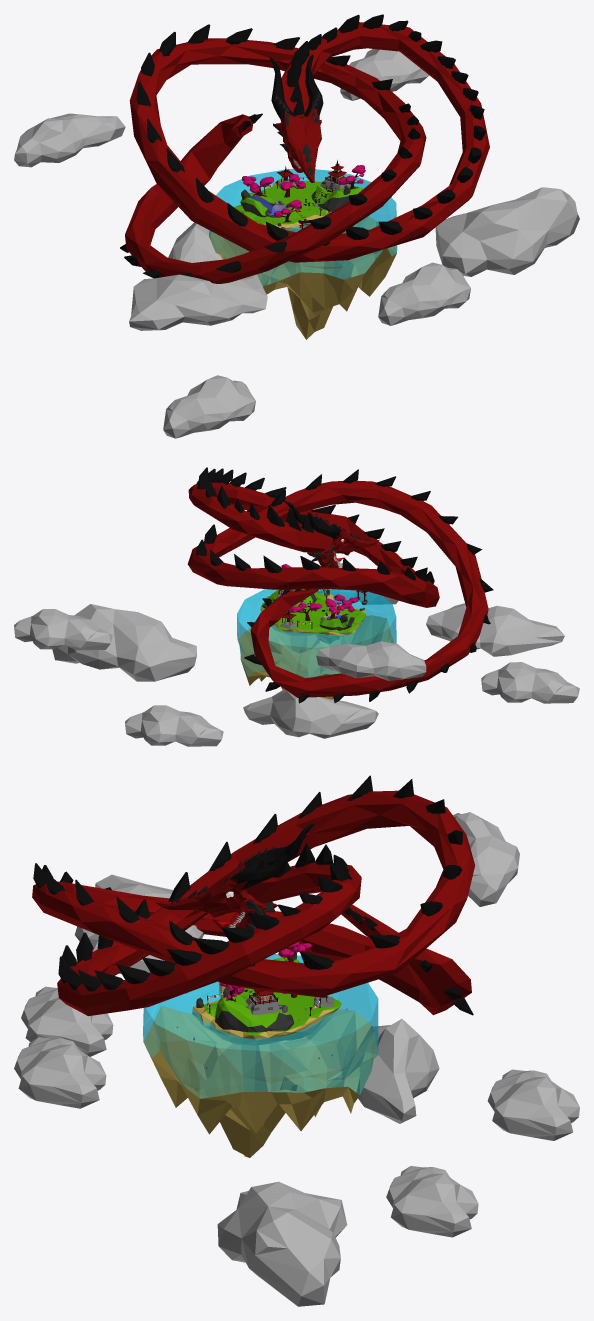
File: island.glb
The picture shows the model from 3 angles, top to bottom: view 1: azimuth 30°, elevation 25°; view 2: azimuth 150°, elevation 25°; view 3: azimuth 270°, elevation 25°; orthographic projection. The views are drawn at different scales.
Visible parts, largest first — view 1: DragonBody_2, Clouds_5, DragonScales_4, Water_40, Dragon_Head_1, Base_6, Tree_Bush_39, Hill_1_7, Hill_2_8; view 2: Clouds_5, DragonBody_2, Water_40, DragonScales_4, Base_6, Dragon_Head_1, Tree_Bush_39; view 3: DragonBody_2, Clouds_5, Water_40, DragonScales_4, Dragon_Head_1, Base_6, Hill_1_7.
Boxes of the visible parts, bbox=[...] form: DragonBody_2: bbox=[125, 22, 489, 283]; Clouds_5: bbox=[14, 49, 579, 438]; DragonScales_4: bbox=[120, 14, 486, 278]; Water_40: bbox=[209, 169, 397, 339]; Dragon_Head_1: bbox=[270, 54, 323, 182]; Base_6: bbox=[234, 179, 330, 231]; Tree_Bush_39: bbox=[242, 165, 365, 217]; Hill_1_7: bbox=[311, 185, 362, 211]; Hill_2_8: bbox=[240, 193, 275, 217]; Clouds_5: bbox=[14, 563, 579, 746]; DragonBody_2: bbox=[187, 480, 488, 697]; Water_40: bbox=[237, 589, 396, 699]; DragonScales_4: bbox=[196, 467, 493, 703]; Base_6: bbox=[260, 592, 365, 643]; Dragon_Head_1: bbox=[284, 501, 379, 567]; Tree_Bush_39: bbox=[281, 564, 358, 614]; DragonBody_2: bbox=[32, 790, 475, 1016]; Clouds_5: bbox=[14, 812, 579, 1306]; Water_40: bbox=[143, 954, 378, 1157]; DragonScales_4: bbox=[33, 775, 473, 1015]; Dragon_Head_1: bbox=[155, 823, 314, 929]; Base_6: bbox=[192, 982, 341, 1045]; Hill_1_7: bbox=[215, 994, 293, 1032].
Bounding box in the file's own units: 485 × 246 × 363.
3 materials, 3 textured.
